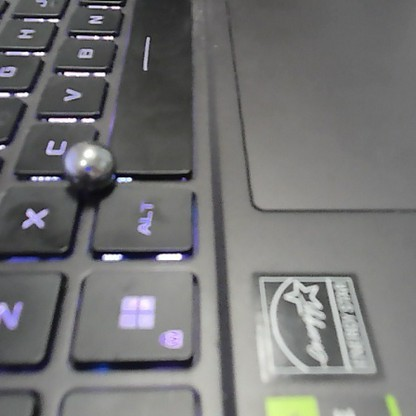ironball: (61, 140, 121, 199)
